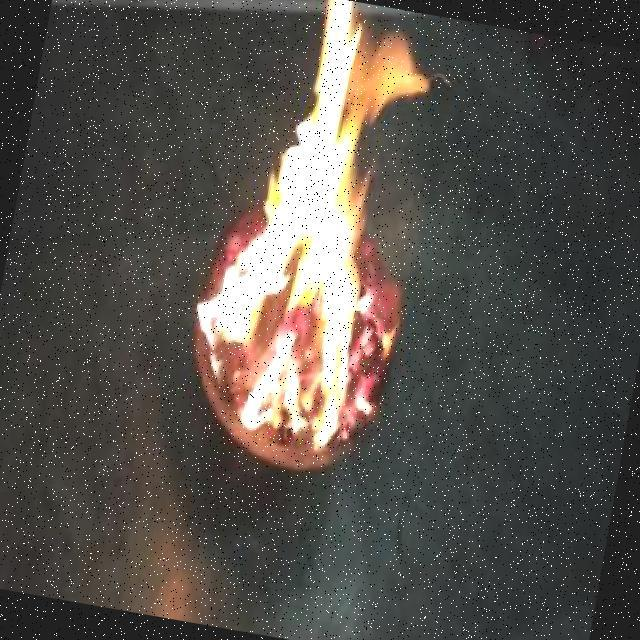Fire: (171, 0, 455, 460)
